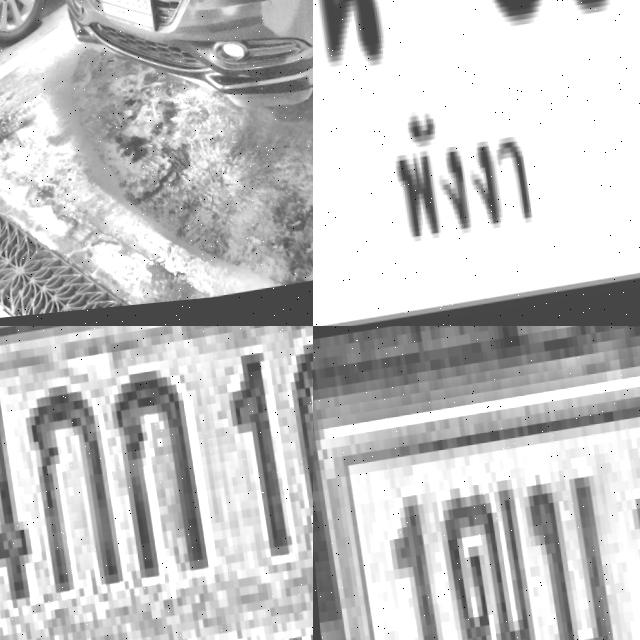license-plate: (313, 0, 640, 326), (313, 332, 640, 640), (0, 326, 313, 640), (88, 0, 150, 52)
